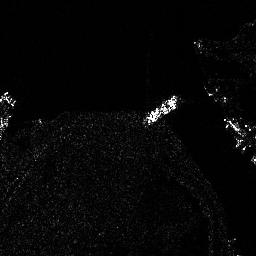ship: (204, 83, 231, 105)
